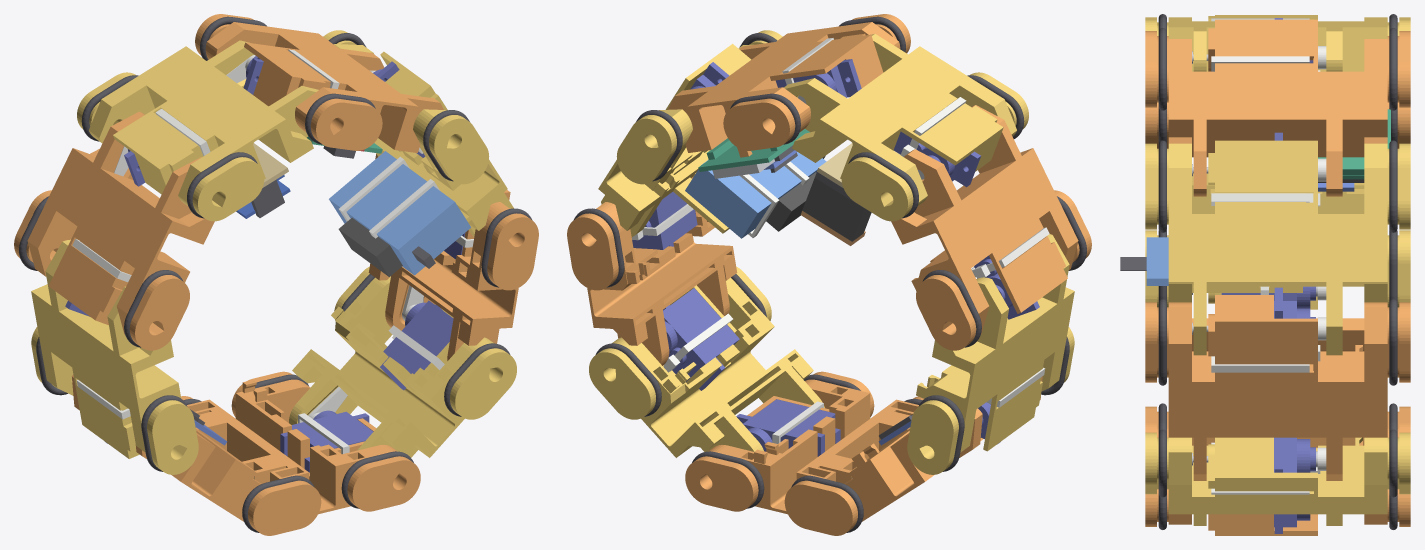
Rendered from assembled_wheel.glb.
The picture shows the model from 3 angles, left to right: view 1: azimuth 30°, elevation 25°; view 2: azimuth 150°, elevation 25°; view 3: azimuth 270°, elevation 25°; orthographic projection. The views are drawn at different scales.
Parts seen in each view (by area): view 1: s6_link_79, s5_link_s5_power_58, s1_link_12, s0_tail_0, s7_link_88, s4_link_s4_esp32_43, s2_link_21, s3_link_s3_battery_30, s3_battery_39, s8_head_97, s1_servo_16, s0_servo_1 (+12 smaller); view 2: s6_link_79, s5_link_s5_power_58, s1_link_12, s7_link_88, s0_tail_0, s2_link_21, s4_link_s4_esp32_43, s3_link_s3_battery_30, s3_battery_39, s8_head_97, s1_servo_16, s0_servo_1 (+20 smaller); view 3: s3_link_s3_battery_30, s2_link_21, s4_link_s4_esp32_43, s1_link_12, s5_link_s5_power_58, s0_tail_0, s7_link_88, s1_servo_16, s6_link_79, s3_battery_39, s3_servo_tie_36, s2_servo_tie_27 (+17 smaller).
Boxes of the visible parts, bbox=[...] form: s6_link_79: bbox=[14, 111, 214, 350]; s5_link_s5_power_58: bbox=[77, 40, 318, 221]; s1_link_12: bbox=[289, 266, 516, 457]; s0_tail_0: bbox=[181, 371, 420, 535]; s7_link_88: bbox=[31, 239, 198, 474]; s4_link_s4_esp32_43: bbox=[195, 14, 443, 152]; s2_link_21: bbox=[368, 154, 538, 360]; s3_link_s3_battery_30: bbox=[323, 30, 513, 237]; s3_battery_39: bbox=[329, 151, 470, 275]; s8_head_97: bbox=[72, 375, 261, 521]; s1_servo_16: bbox=[380, 300, 453, 390]; s0_servo_1: bbox=[280, 410, 373, 472]; s6_link_79: bbox=[891, 105, 1091, 350]; s5_link_s5_power_58: bbox=[784, 34, 1028, 221]; s1_link_12: bbox=[589, 266, 824, 457]; s7_link_88: bbox=[907, 234, 1074, 474]; s0_tail_0: bbox=[685, 371, 923, 535]; s2_link_21: bbox=[567, 177, 737, 365]; s4_link_s4_esp32_43: bbox=[668, 14, 910, 157]; s3_link_s3_battery_30: bbox=[598, 30, 782, 237]; s3_battery_39: bbox=[685, 152, 826, 238]; s8_head_97: bbox=[844, 376, 1042, 521]; s1_servo_16: bbox=[663, 288, 739, 390]; s0_servo_1: bbox=[736, 399, 840, 456]; s3_link_s3_battery_30: bbox=[1145, 140, 1410, 355]; s2_link_21: bbox=[1145, 295, 1410, 480]; s4_link_s4_esp32_43: bbox=[1145, 19, 1410, 196]; s1_link_12: bbox=[1145, 432, 1410, 525]; s5_link_s5_power_58: bbox=[1145, 15, 1410, 71]; s0_tail_0: bbox=[1145, 406, 1410, 535]; s7_link_88: bbox=[1145, 173, 1410, 309]; s1_servo_16: bbox=[1274, 437, 1315, 472]; s6_link_79: bbox=[1145, 102, 1410, 148]; s3_battery_39: bbox=[1146, 237, 1168, 285]; s3_servo_tie_36: bbox=[1211, 193, 1320, 206]; s2_servo_tie_27: bbox=[1211, 345, 1320, 372].
Bounding box in the file's own units: 0.1585 × 0.1554 × 0.0876.
